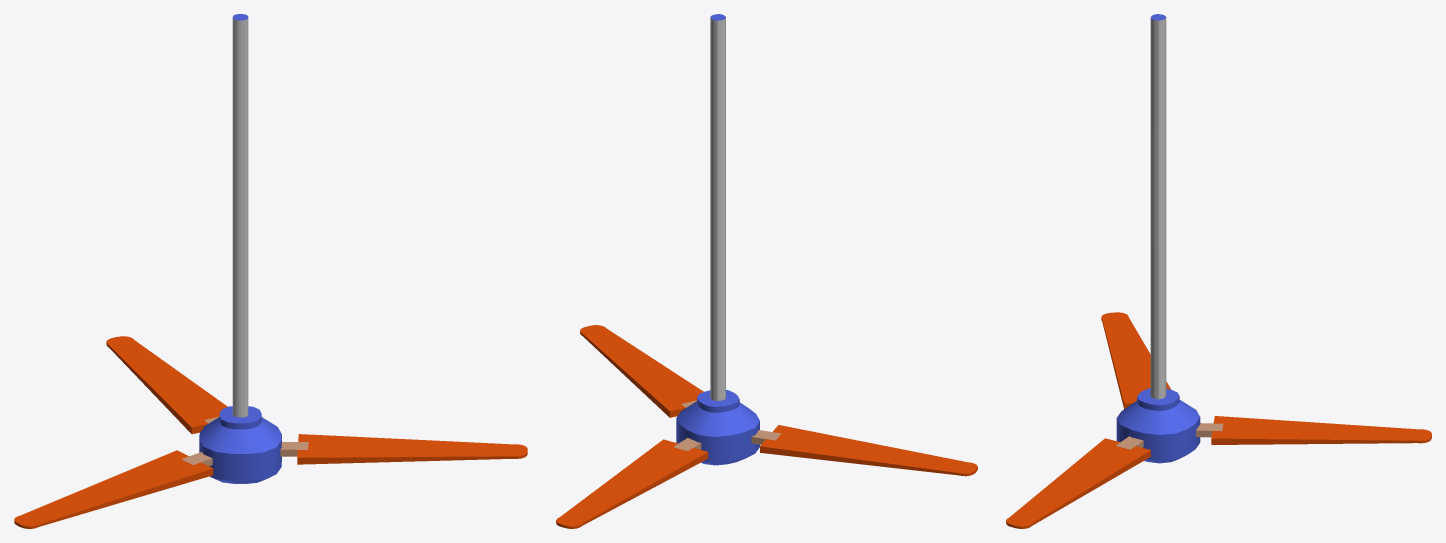
The model's file is CelingFan_v1.fbx.
3 views of the same model, side by side, from view 1: azimuth 30°, elevation 25°; view 2: azimuth 150°, elevation 25°; view 3: azimuth 270°, elevation 25° (orthographic). The views are drawn at different scales.
Parts seen in each view (by area): view 1: Celingfan; view 2: Celingfan; view 3: Celingfan.
Part boxes in pixels (box(x1,y1,x2,y2)): Celingfan: box(14, 14, 527, 528); Celingfan: box(556, 14, 977, 528); Celingfan: box(1006, 14, 1431, 528).
Bounding box in the file's own units: 323 × 312 × 271.
